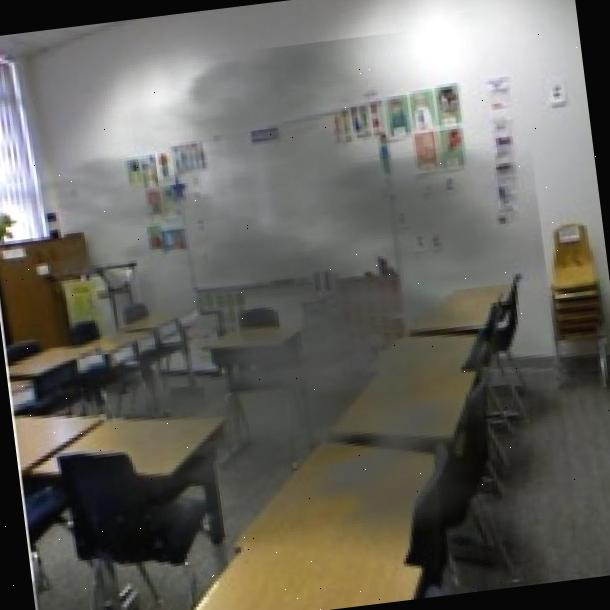smoke: (0, 17, 580, 610)
